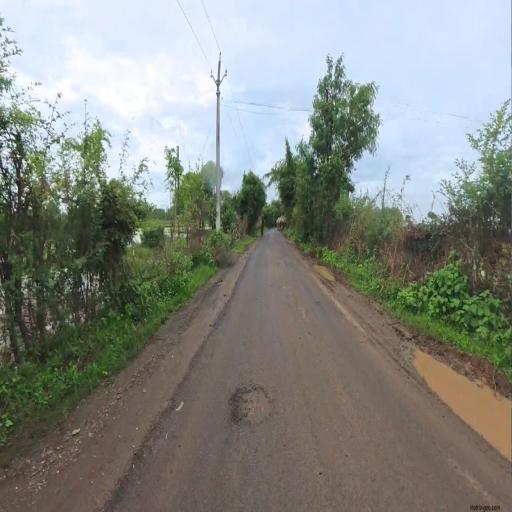pothole: (221, 355, 288, 462)
